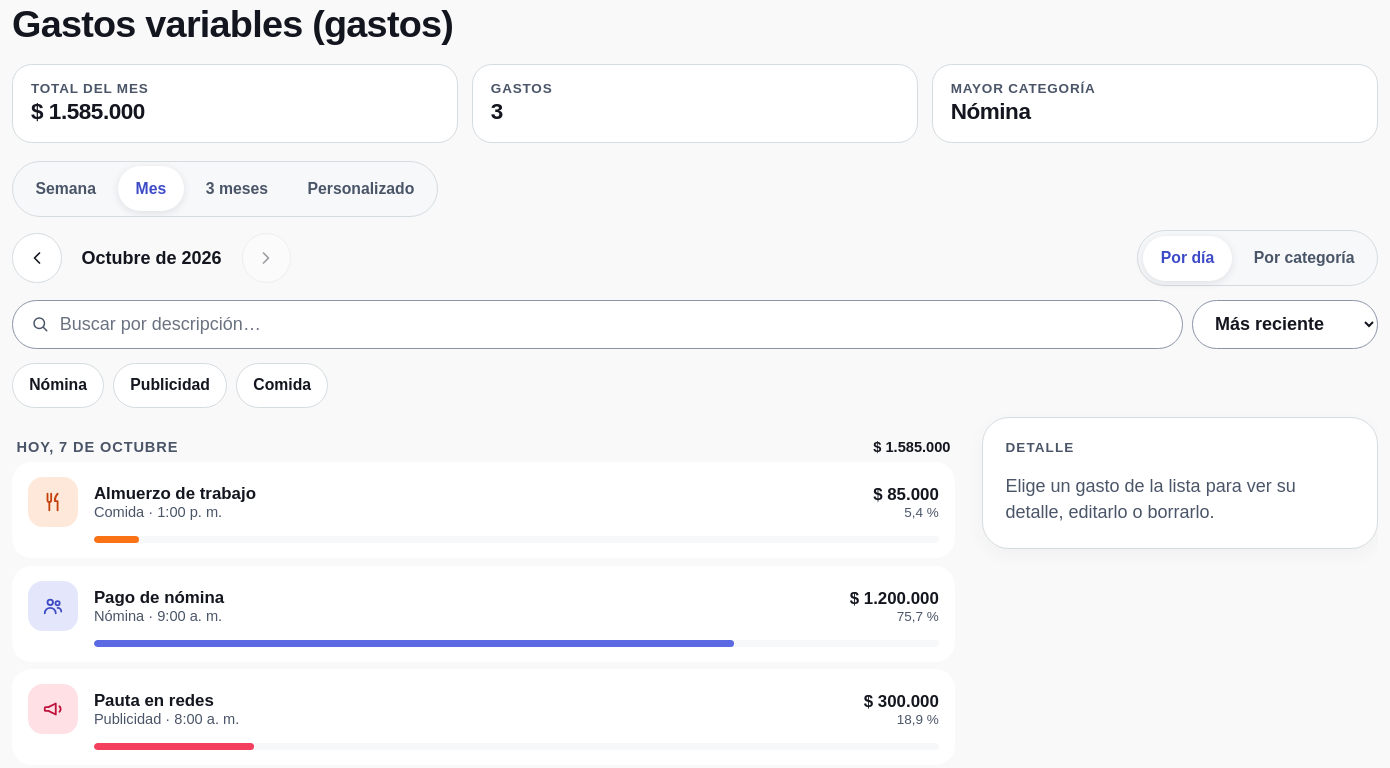
PaginaLista › filtra por categoría con chips y los combina con la búsqueda
What coordinates should you click on to do the following:
click the button "Comida"
I would click on:
 (282, 385)
Its box is 236,362 -> 328,408.
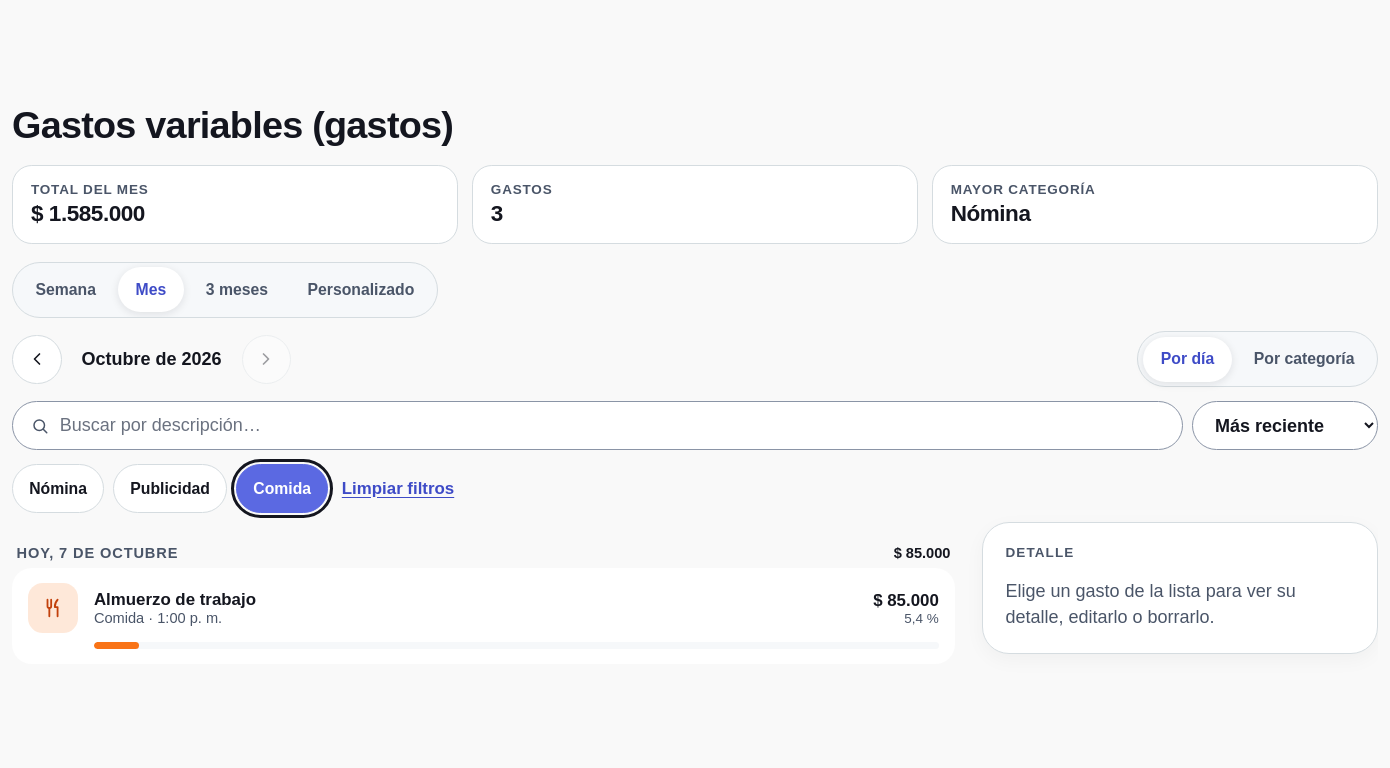
Expected: the text "Almuerzo de trabajo" is shown, 94,590 -> 256,609
Result: the button "Pago de nómina" is gone
What coordinates should you click on to do the following:
click the button "Limpiar filtros"
I would click on:
 (398, 489)
Its box is 337,464 -> 459,513.
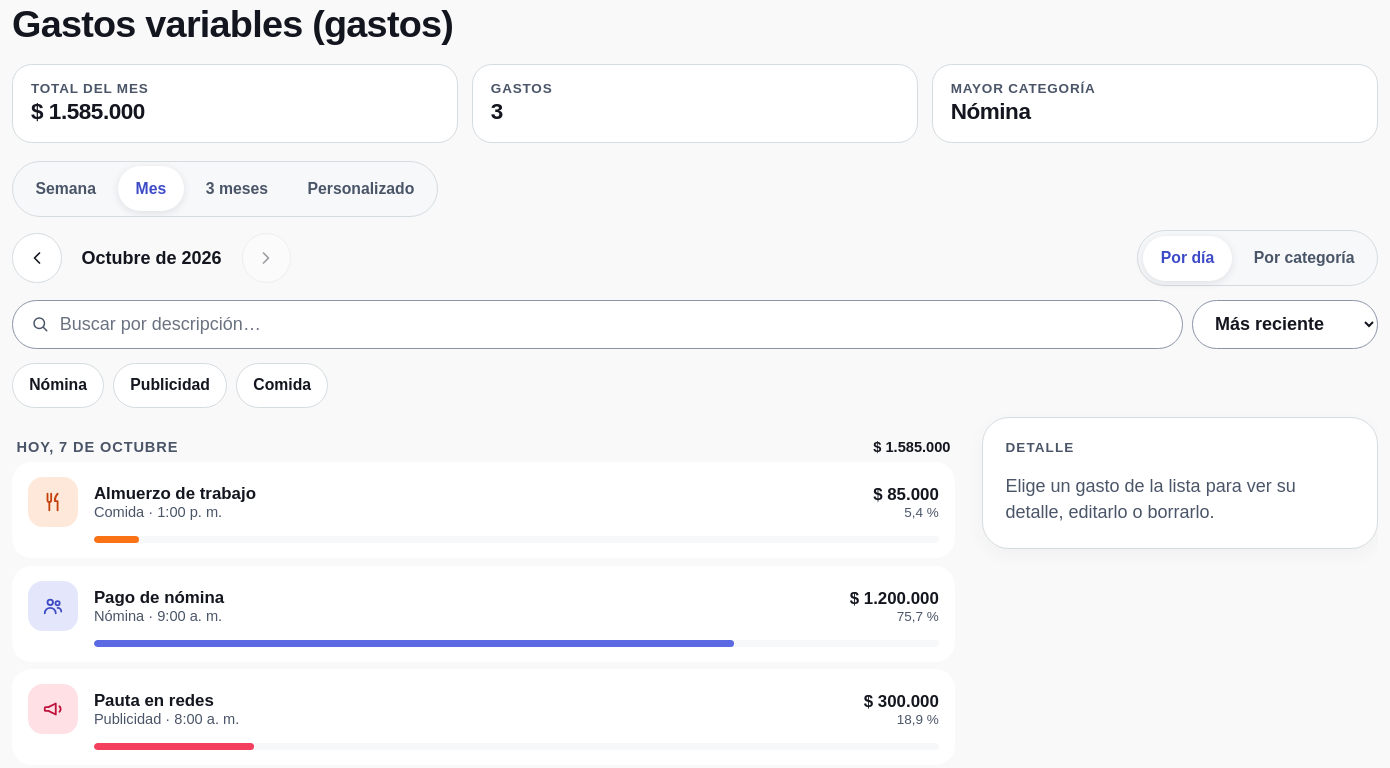
Result: the text "Pago de nómina" is shown at 94,588 -> 224,607
